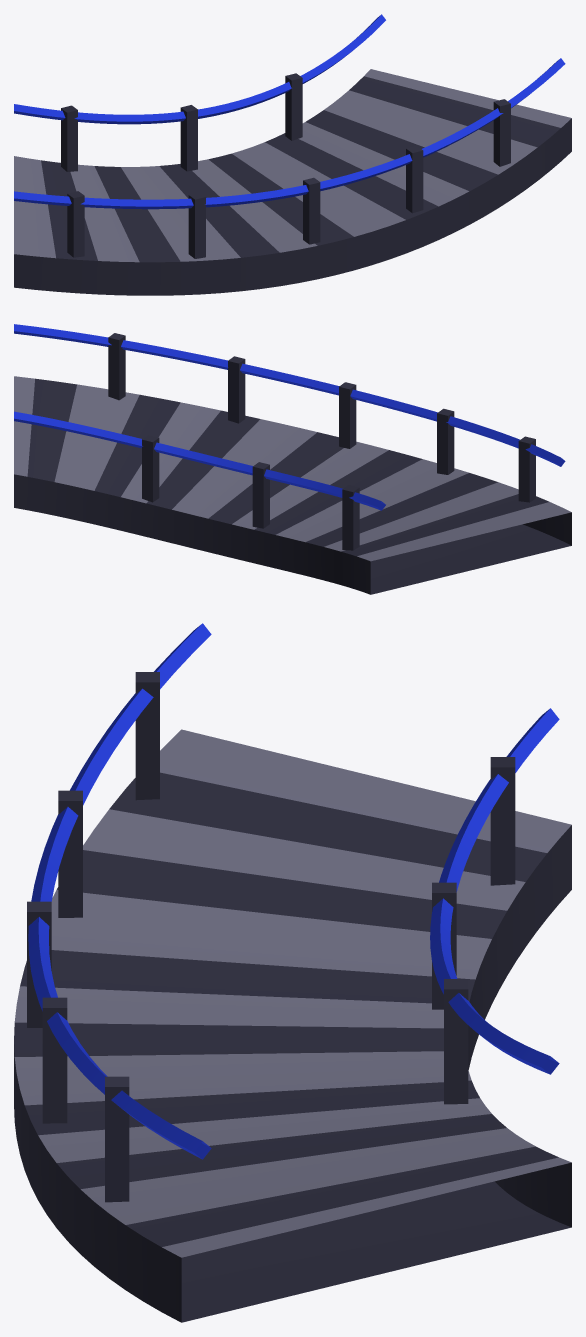
Rendered from MODULE_HOLLOW_BRIDGE.fbx.
The picture shows the model from 3 angles, top to bottom: view 1: azimuth 30°, elevation 25°; view 2: azimuth 150°, elevation 25°; view 3: azimuth 270°, elevation 25°; orthographic projection. The views are drawn at different scales.
Parts seen in each view (by area): view 1: MODULE_HOLLOW_BRIDGE__export, MODULE_HOLLOW_BRIDGE_DECOR__export; view 2: MODULE_HOLLOW_BRIDGE__export, MODULE_HOLLOW_BRIDGE_DECOR__export; view 3: MODULE_HOLLOW_BRIDGE__export, MODULE_HOLLOW_BRIDGE_DECOR__export.
Part boxes in pixels (x1,y1,x2,y2): MODULE_HOLLOW_BRIDGE__export: (14,69,571,295); MODULE_HOLLOW_BRIDGE_DECOR__export: (14,14,565,258); MODULE_HOLLOW_BRIDGE__export: (14,376,571,594); MODULE_HOLLOW_BRIDGE_DECOR__export: (14,324,565,550); MODULE_HOLLOW_BRIDGE__export: (14,729,571,1322); MODULE_HOLLOW_BRIDGE_DECOR__export: (27,623,559,1202).
Bounding box in the file's own units: 61 × 12 × 27.23.
